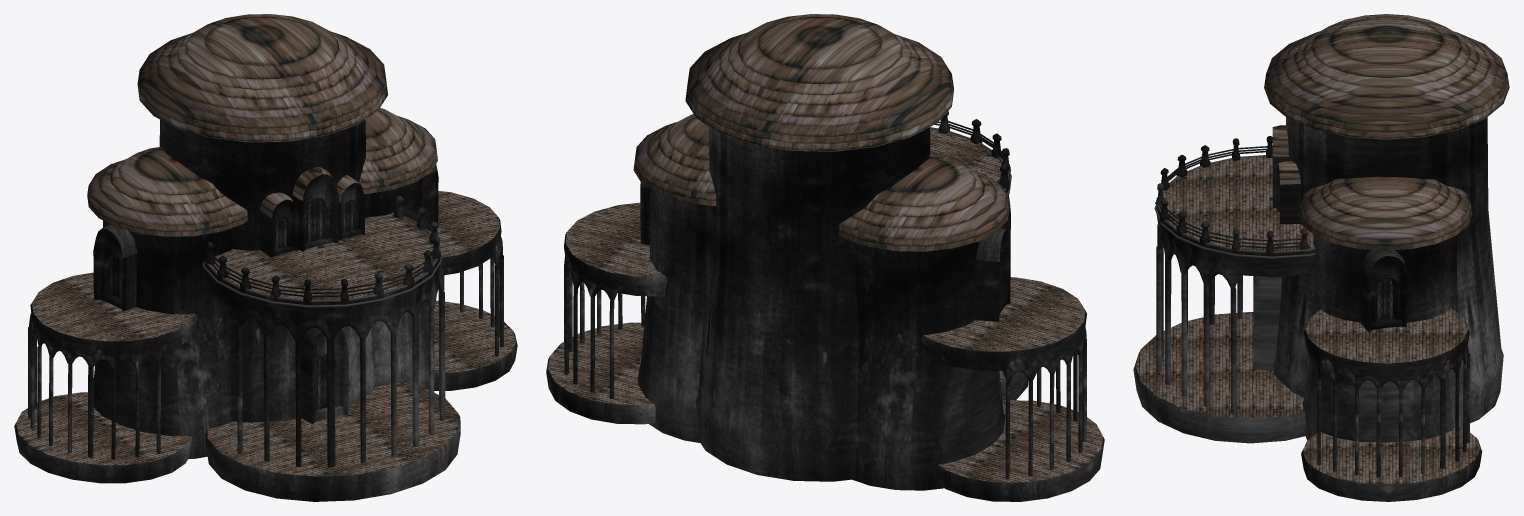
Rendered from diabelny_dwor_p4.FBX.
The picture shows the model from 3 angles, left to right: view 1: azimuth 30°, elevation 25°; view 2: azimuth 150°, elevation 25°; view 3: azimuth 270°, elevation 25°; orthographic projection. The views are drawn at different scales.
Parts seen in each view (by area): view 1: mesh01, Object002, Object004, Object008, Object007, Object003, Object005, Object006; view 2: mesh01, Object002, Object004, Object003, Object008, Object007, Object005, Object006; view 3: mesh01, Object002, Object003, Object005, Object006.
Boxes of the visible parts, x1,y1,x2,y2 form: mesh01: (93, 30, 460, 501); Object002: (87, 14, 458, 476); Object004: (14, 224, 197, 483); Object008: (16, 392, 190, 465); Object007: (32, 272, 195, 341); Object003: (422, 164, 517, 390); Object005: (427, 300, 515, 372); Object006: (429, 191, 499, 257); mesh01: (638, 31, 1028, 490); Object002: (633, 14, 1017, 381); Object004: (921, 228, 1104, 501); Object003: (546, 182, 667, 424); Object008: (938, 400, 1102, 482); Object007: (924, 277, 1085, 351); Object005: (548, 322, 653, 404); Object006: (565, 202, 665, 277); mesh01: (1133, 30, 1503, 443); Object002: (1135, 14, 1509, 418); Object003: (1301, 250, 1482, 501); Object005: (1303, 426, 1480, 484); Object006: (1305, 308, 1467, 363).
Bounding box in the file's own units: 23.5 × 16.17 × 17.12.
2 materials, 2 textured.
